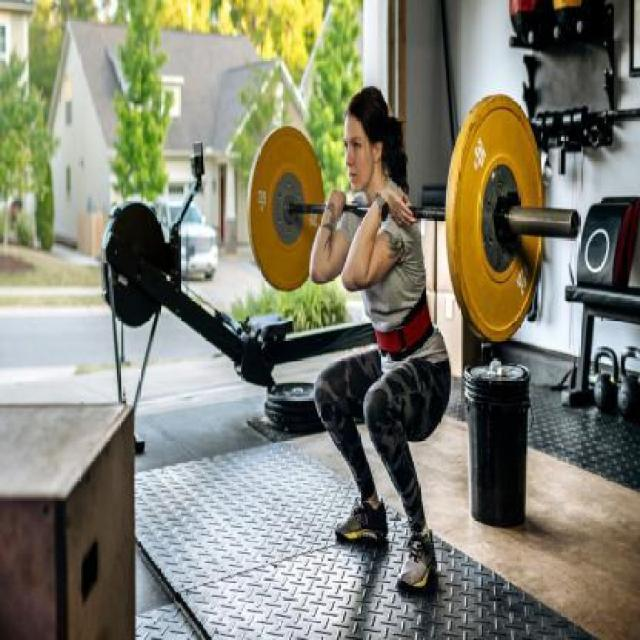barbell: (443, 84, 565, 349)
